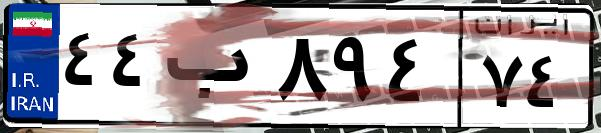4: (385, 28, 445, 110), (57, 26, 110, 100), (525, 38, 570, 115), (110, 28, 158, 98)
7: (475, 38, 525, 113)
8: (270, 28, 330, 110)
9: (330, 28, 385, 110)
ب: (158, 20, 270, 120)
